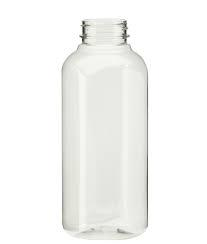Container for household chemicals: (54, 15, 162, 244)
